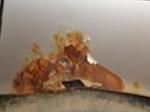rust: (16, 30, 126, 100)
